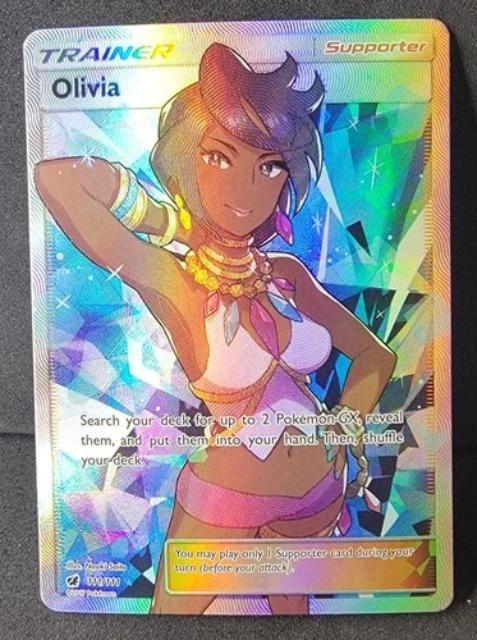Card: (17, 14, 458, 619)
Name: (38, 69, 128, 103)
